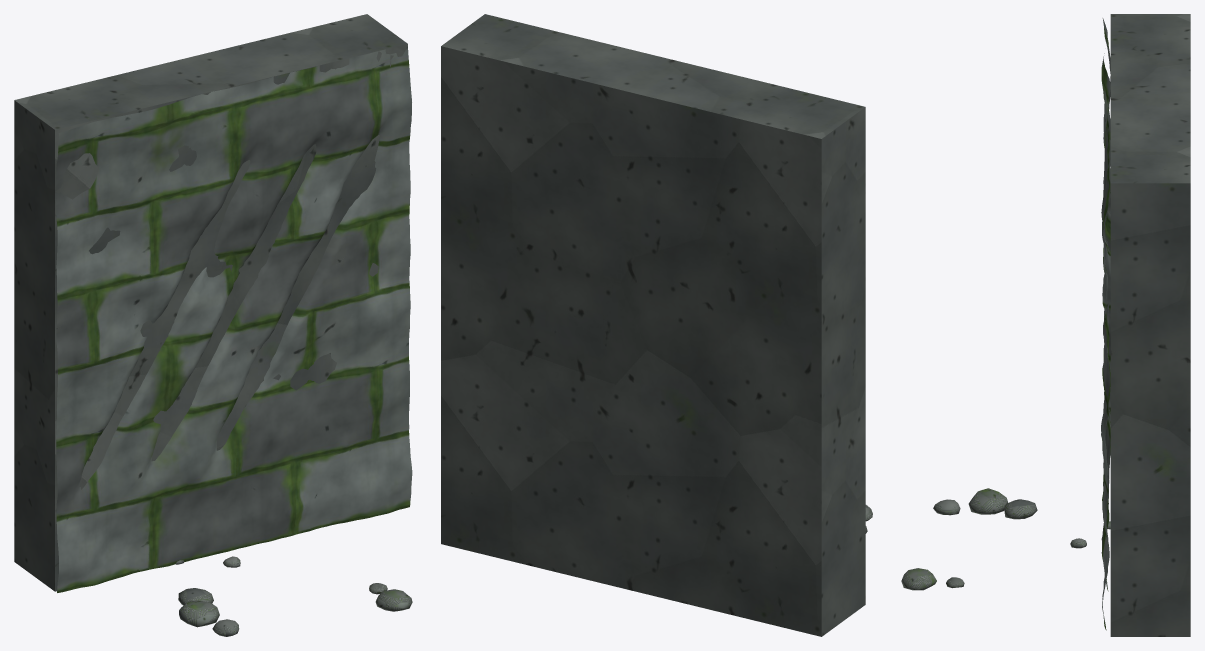
Rendered from foe_claw_marks.glb.
3 renders of one model, left to right at view 1: azimuth 30°, elevation 25°; view 2: azimuth 150°, elevation 25°; view 3: azimuth 270°, elevation 25°, orthographic. The views are drawn at different scales.
Visible parts, largest first — view 1: foe_claw_marks__stone_wall, foe_claw_marks__stone_dark, foe_claw_marks__stone_block; view 2: foe_claw_marks__stone_dark; view 3: foe_claw_marks__stone_dark, foe_claw_marks__stone_wall, foe_claw_marks__stone_block.
Part boxes in pixels (<box>): foe_claw_marks__stone_wall: <box>55,44,412,592</box>; foe_claw_marks__stone_dark: <box>14,14,407,591</box>; foe_claw_marks__stone_block: <box>175,556,412,636</box>; foe_claw_marks__stone_dark: <box>441,14,865,636</box>; foe_claw_marks__stone_dark: <box>1110,14,1190,636</box>; foe_claw_marks__stone_wall: <box>1101,18,1110,630</box>; foe_claw_marks__stone_block: <box>901,488,1110,590</box>.
Size of the model in its own units: 2 by 2.51 by 1.44.
Materials: 4 (4 with a texture image).
